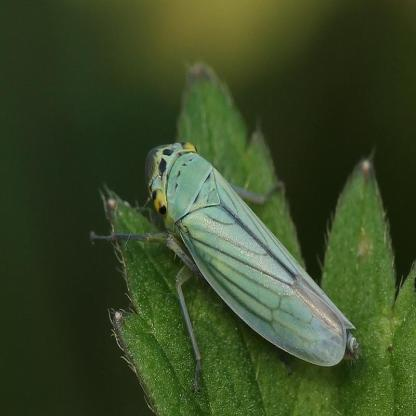Green-Leafhopper: (88, 129, 364, 387)
